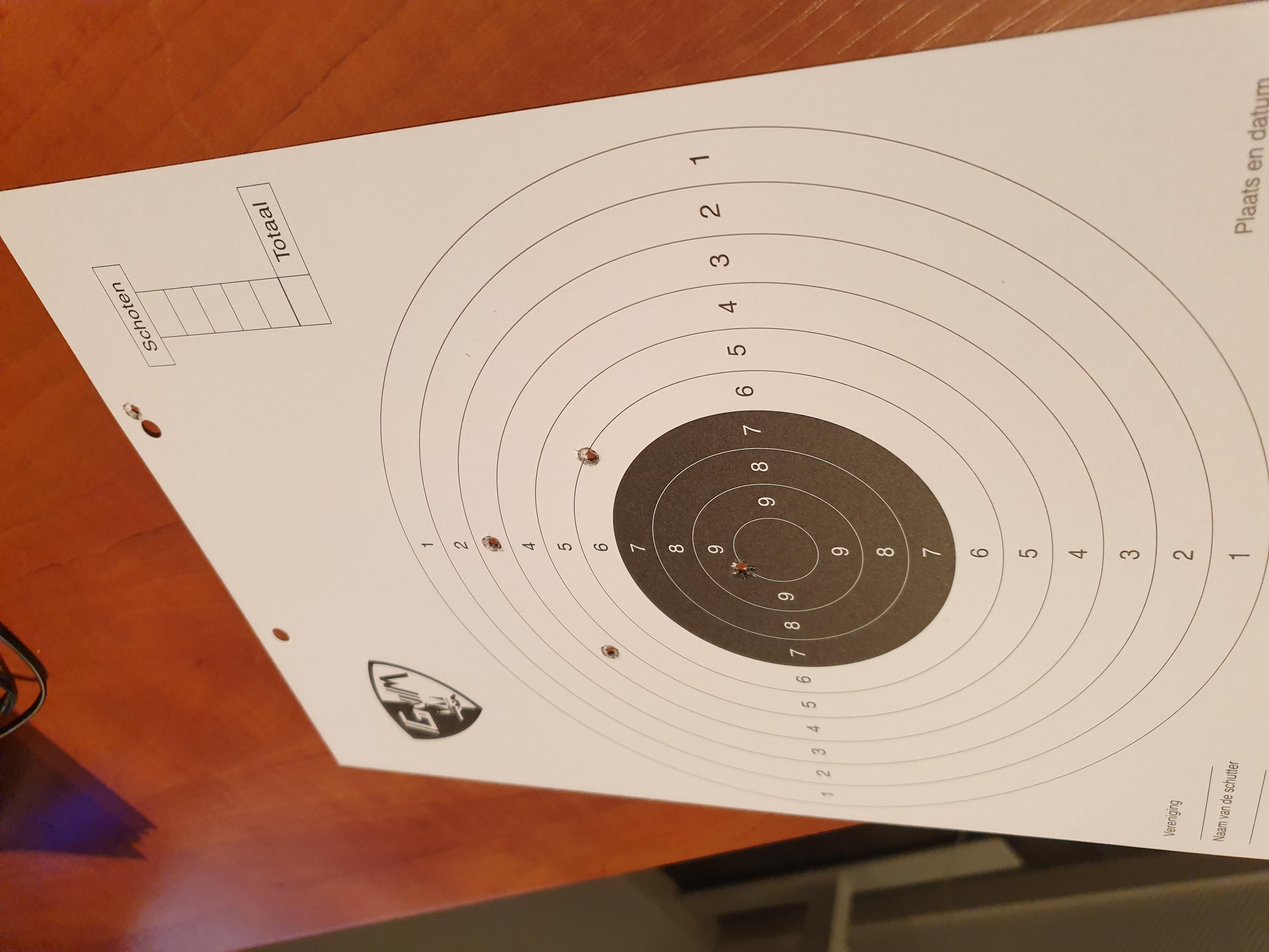hole: (511, 369, 540, 395), (668, 483, 696, 507), (764, 397, 792, 419), (1125, 529, 1149, 553), (647, 290, 671, 309)
